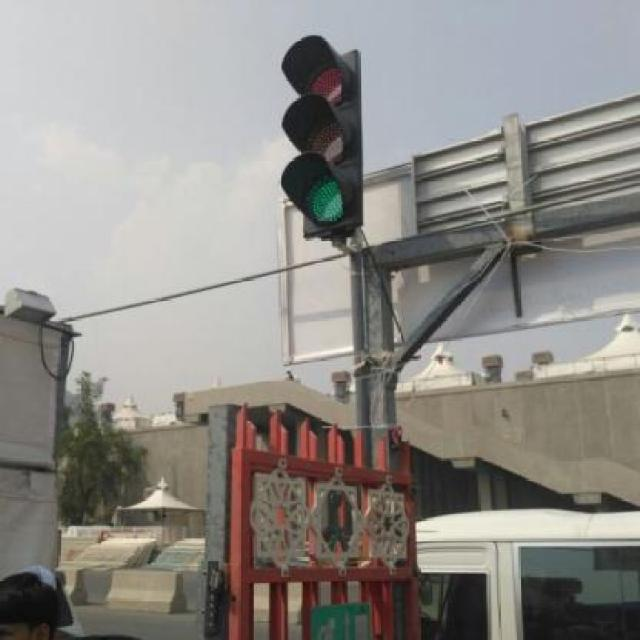traffic light: (285, 37, 365, 234)
